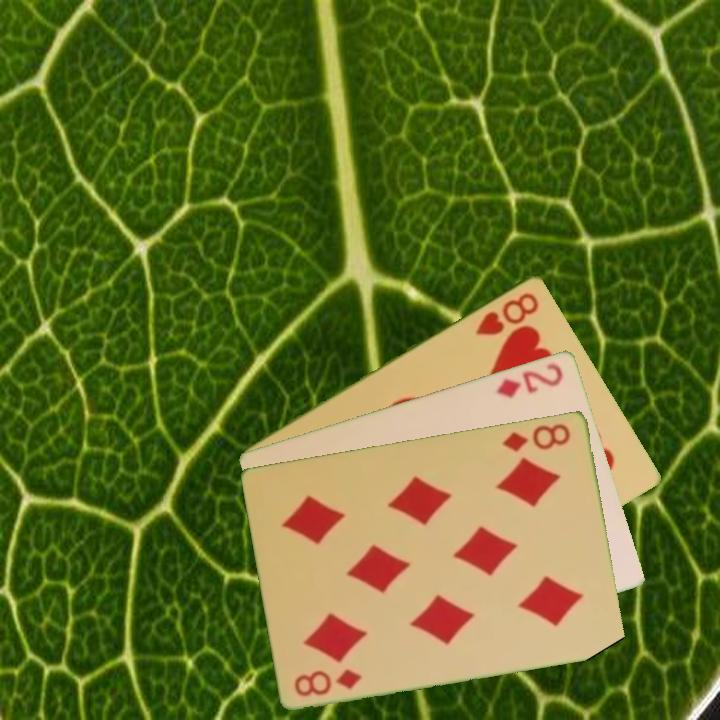2d: (493, 359, 566, 401)
8d: (499, 419, 574, 455), (291, 665, 365, 699)
8h: (472, 288, 542, 338)
